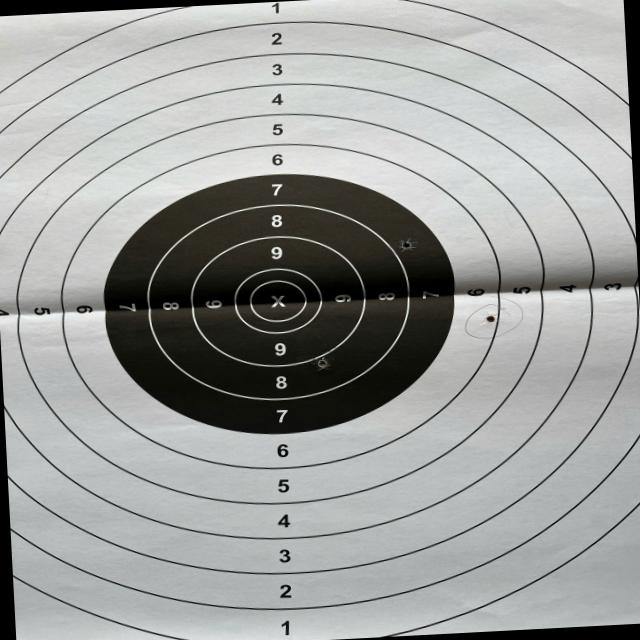bullet: (317, 360, 326, 369), (401, 240, 410, 249), (486, 315, 495, 322)
target: (0, 0, 640, 640)
